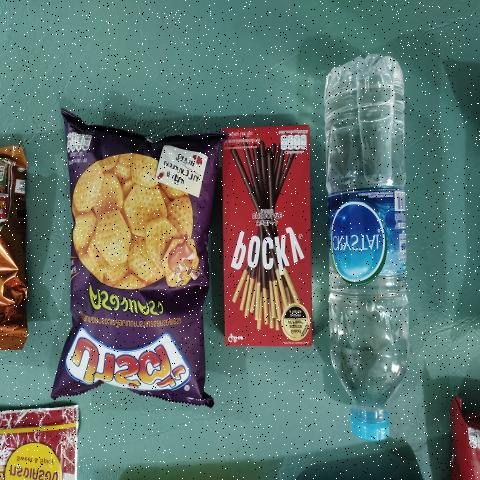crystal: (329, 45, 413, 448)
party_purple: (66, 146, 201, 389)
pokki: (227, 127, 311, 346)
